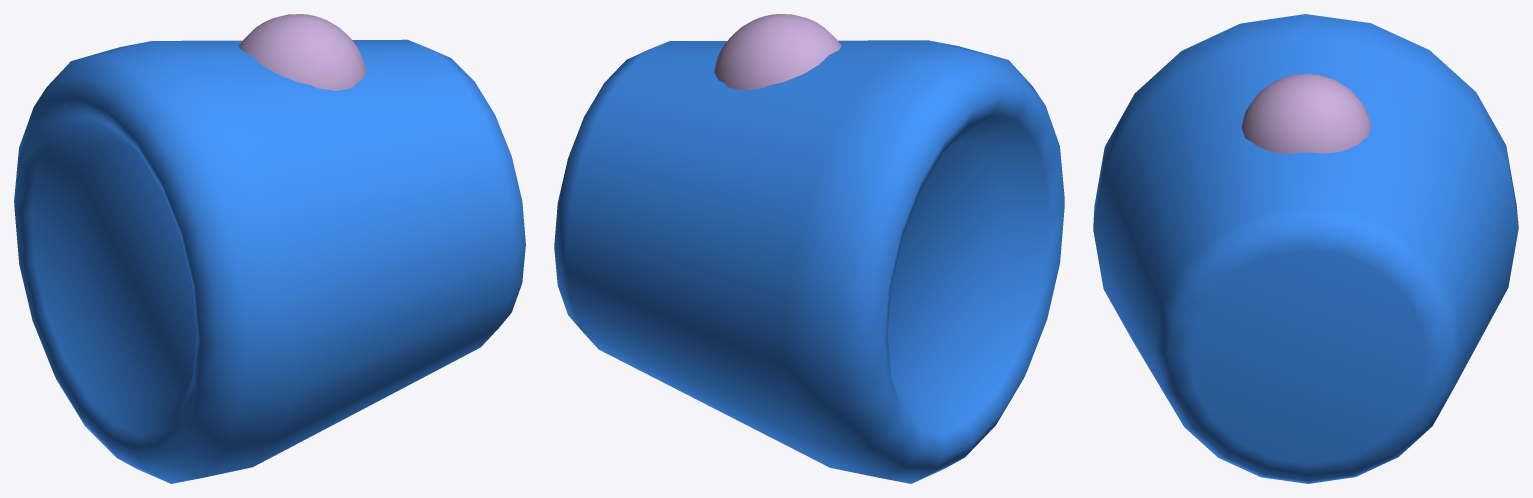
Rendered from Gauntlet.fbx.
3 renders of one model, left to right at view 1: azimuth 30°, elevation 25°; view 2: azimuth 150°, elevation 25°; view 3: azimuth 270°, elevation 25°, orthographic. The views are drawn at different scales.
Parts seen in each view (by area): view 1: armShooter1; view 2: armShooter1; view 3: armShooter1.
Boxes of the visible parts, x1,y1,x2,y2 form: armShooter1: (14, 14, 525, 483); armShooter1: (554, 14, 1064, 483); armShooter1: (1093, 14, 1518, 483).
Size of the model in its own units: 25.19 by 27.83 by 27.27.
